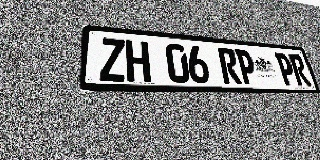0: (165, 43, 190, 83)
6: (186, 45, 211, 84)
H: (125, 40, 151, 83)
P: (234, 49, 259, 85), (274, 53, 298, 86)
R: (217, 48, 242, 84), (288, 54, 311, 86)
Z: (100, 37, 126, 82)
